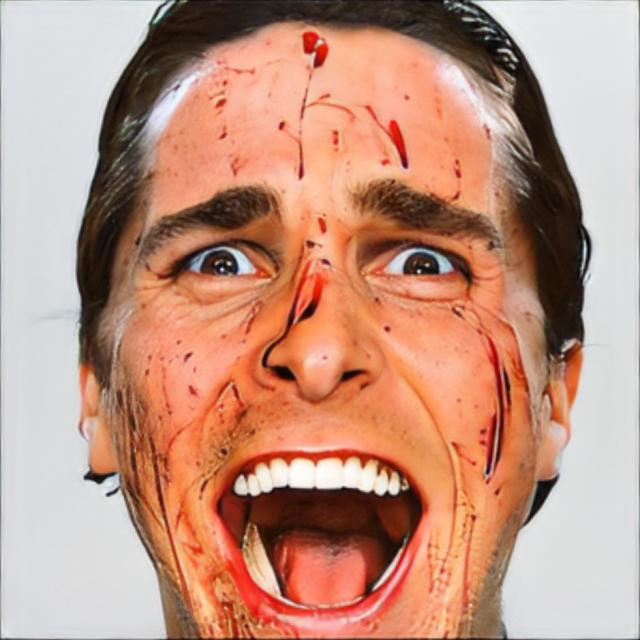fear: (104, 17, 554, 640)
